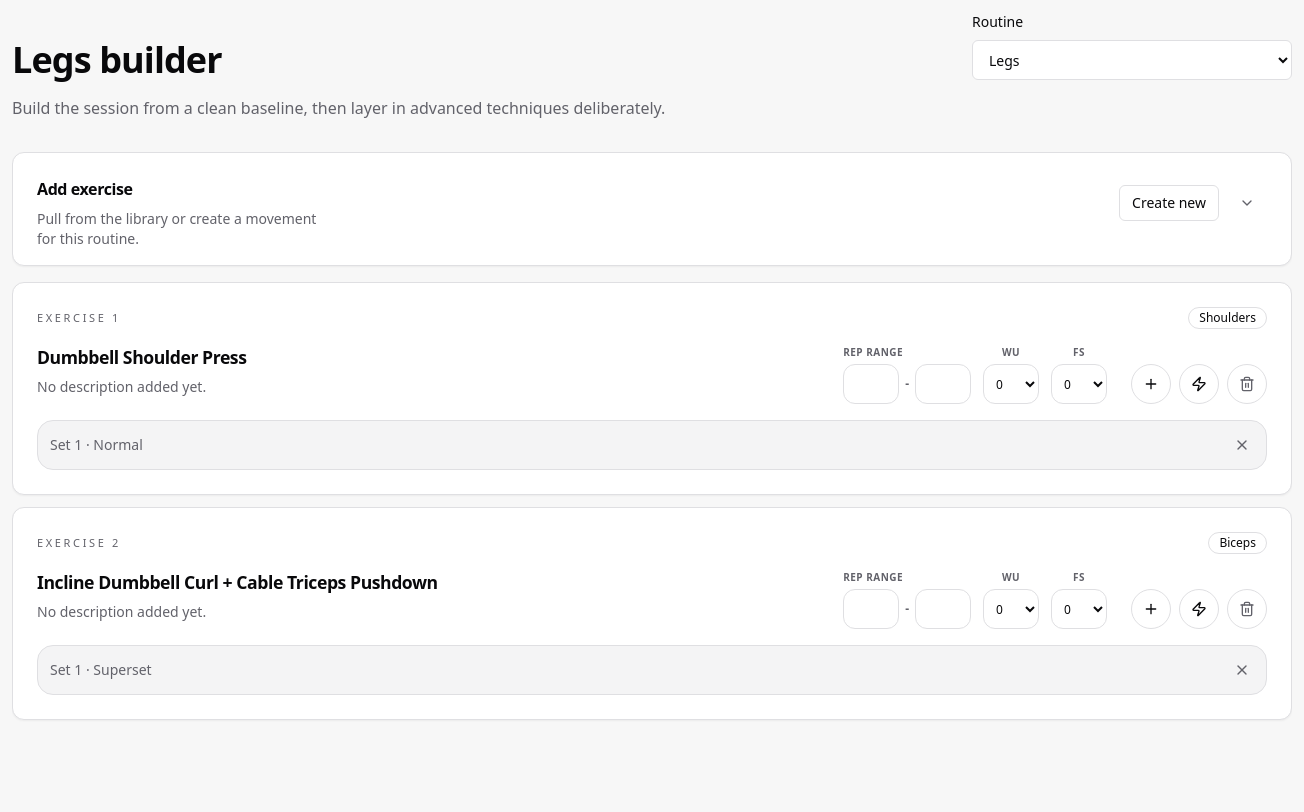
Test: RoutineDetailPage › appends a superset set when adding a set to a superset exercise
Click the 2nd button named "add set" at x=1151, y=609, box [1131,589,1171,629]
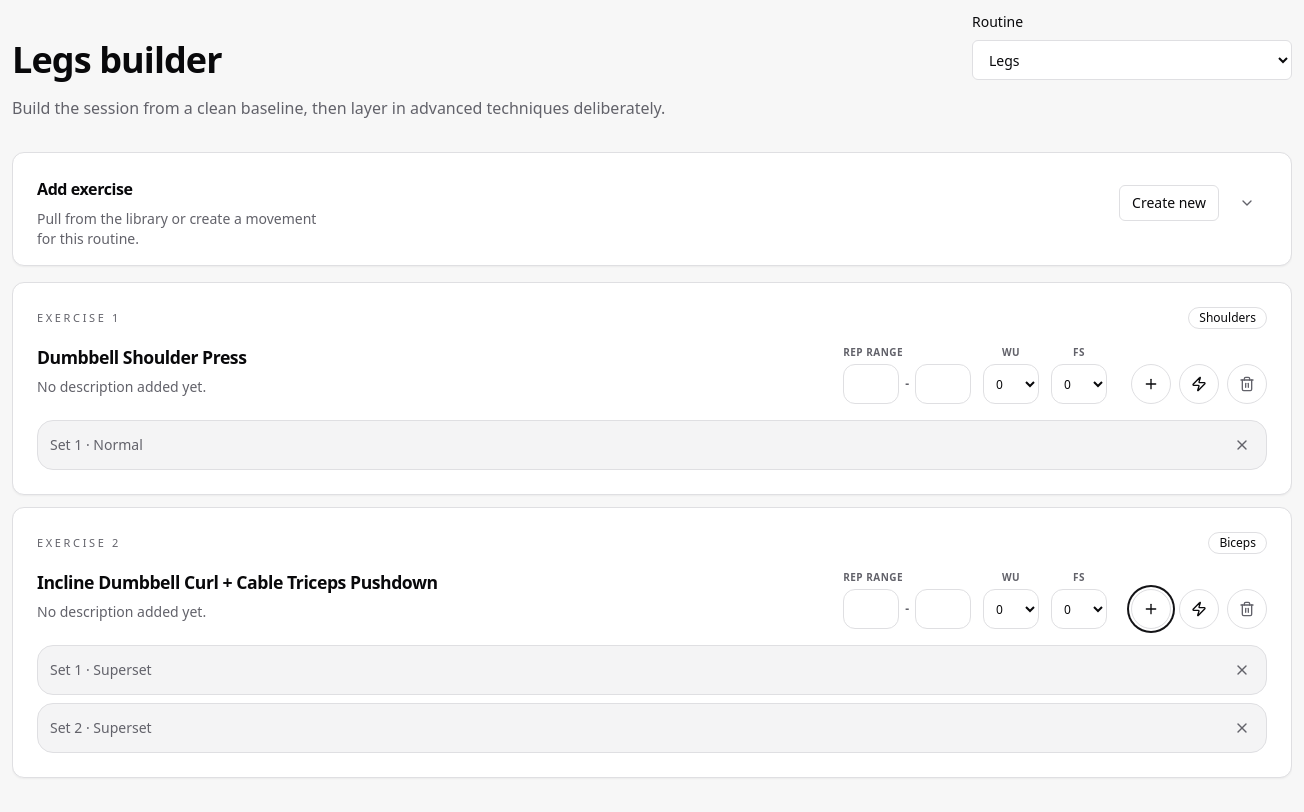
Expected: the text "Set 2 · Superset" is shown, [50,718,152,738]
